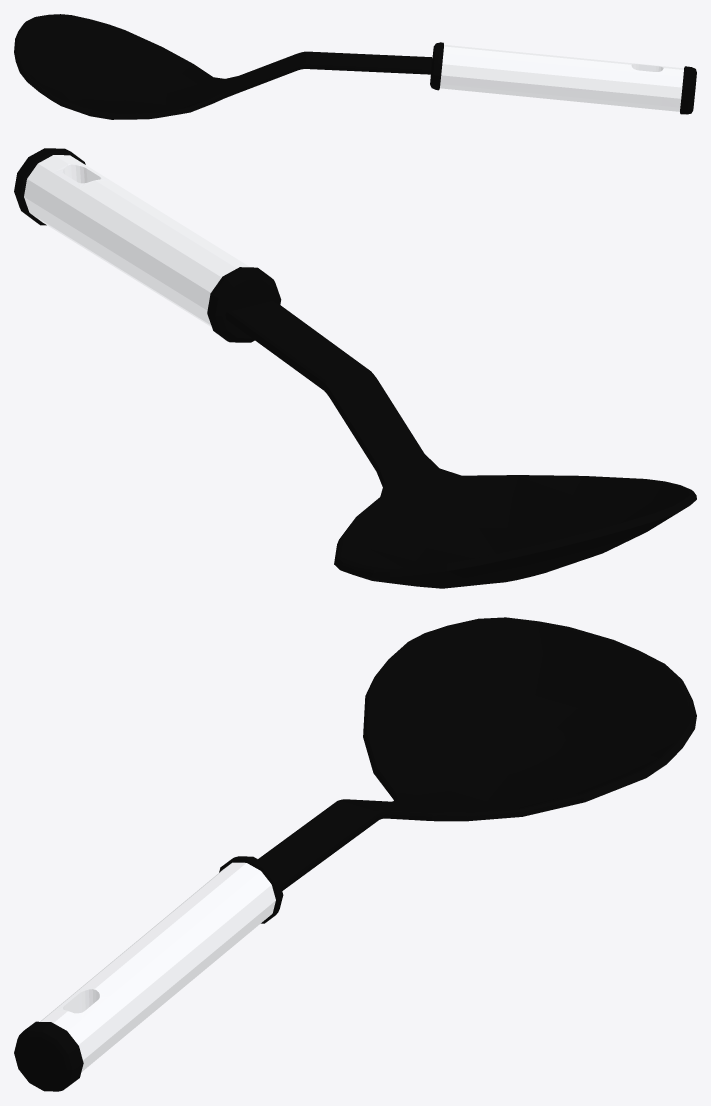
3 renders of one model, top to bottom at view 1: azimuth 30°, elevation 25°; view 2: azimuth 150°, elevation 25°; view 3: azimuth 270°, elevation 25°, orthographic. The views are drawn at different scales.
Visible parts, largest first — view 1: n1; view 2: n1; view 3: n1.
Boxes of the visible parts, box(x1,y1,x2,y2) form: n1: box(14, 14, 696, 119); n1: box(14, 148, 696, 588); n1: box(14, 617, 696, 1091).
Bounding box in the file's own units: 0.9 × 0.1031 × 0.6524.
Materials: 1 (1 with a texture image).
